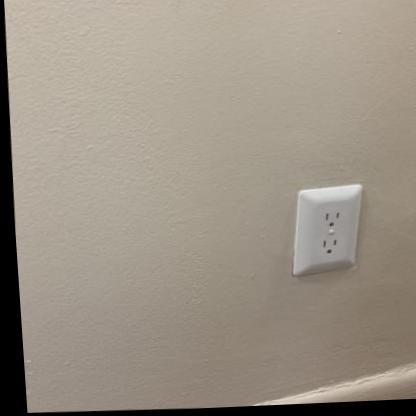OUTLET: (284, 186, 367, 275)
